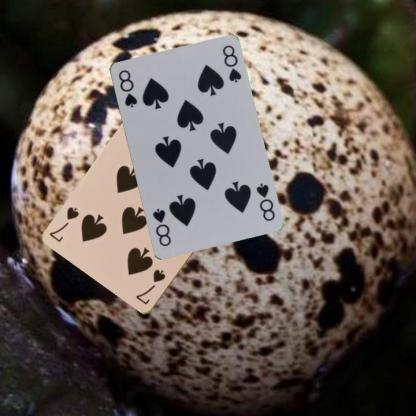7s: (133, 267, 167, 306)
8s: (253, 180, 276, 223), (116, 67, 139, 109)
